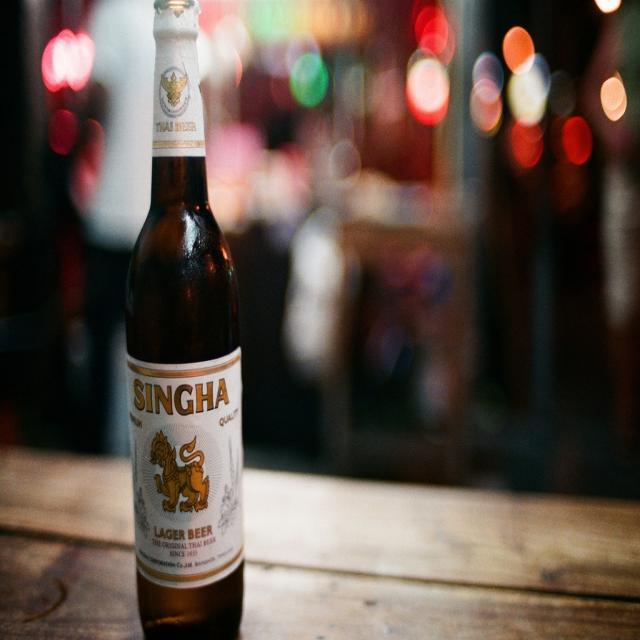singha: (126, 355, 246, 585)
